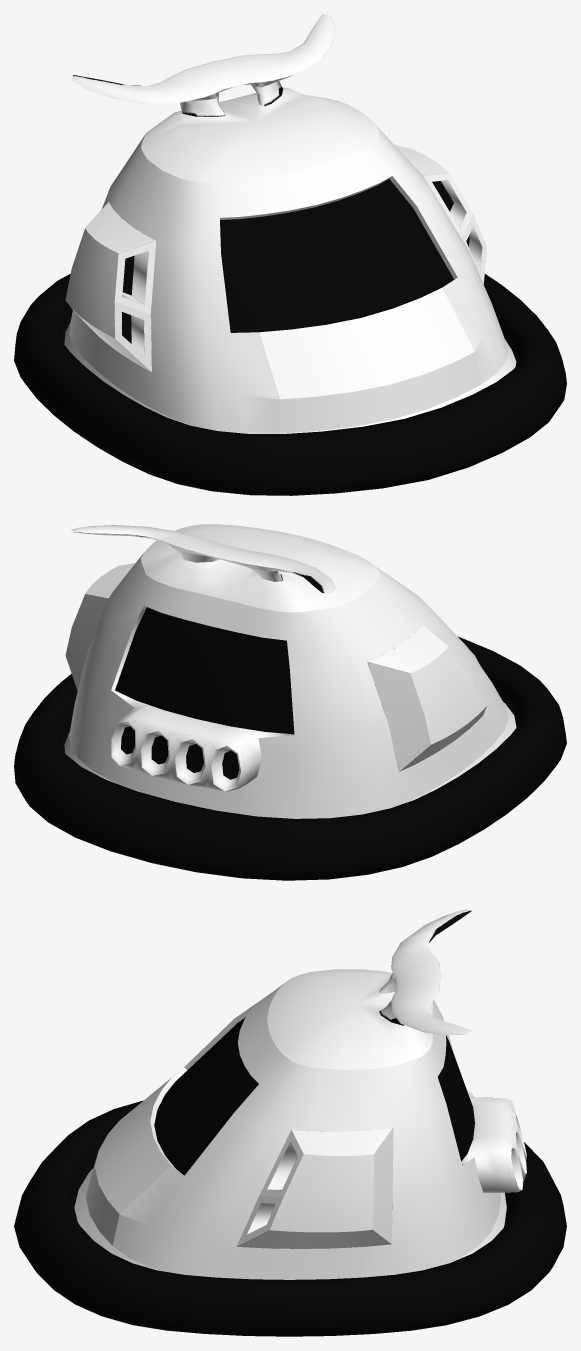
Rendered from HoverRacer.gltf.
The picture shows the model from 3 angles, top to bottom: view 1: azimuth 30°, elevation 25°; view 2: azimuth 150°, elevation 25°; view 3: azimuth 270°, elevation 25°; orthographic projection.
Parts seen in each view (by area): view 1: HoverRacer; view 2: HoverRacer; view 3: HoverRacer.
Part boxes in pixels (bbox=[...]): HoverRacer: bbox=[14, 14, 566, 495]; HoverRacer: bbox=[14, 524, 566, 880]; HoverRacer: bbox=[14, 909, 566, 1336].
Size of the model in its own units: 5.73 by 3.35 by 6.34.
Materials: 4 (1 with a texture image).
